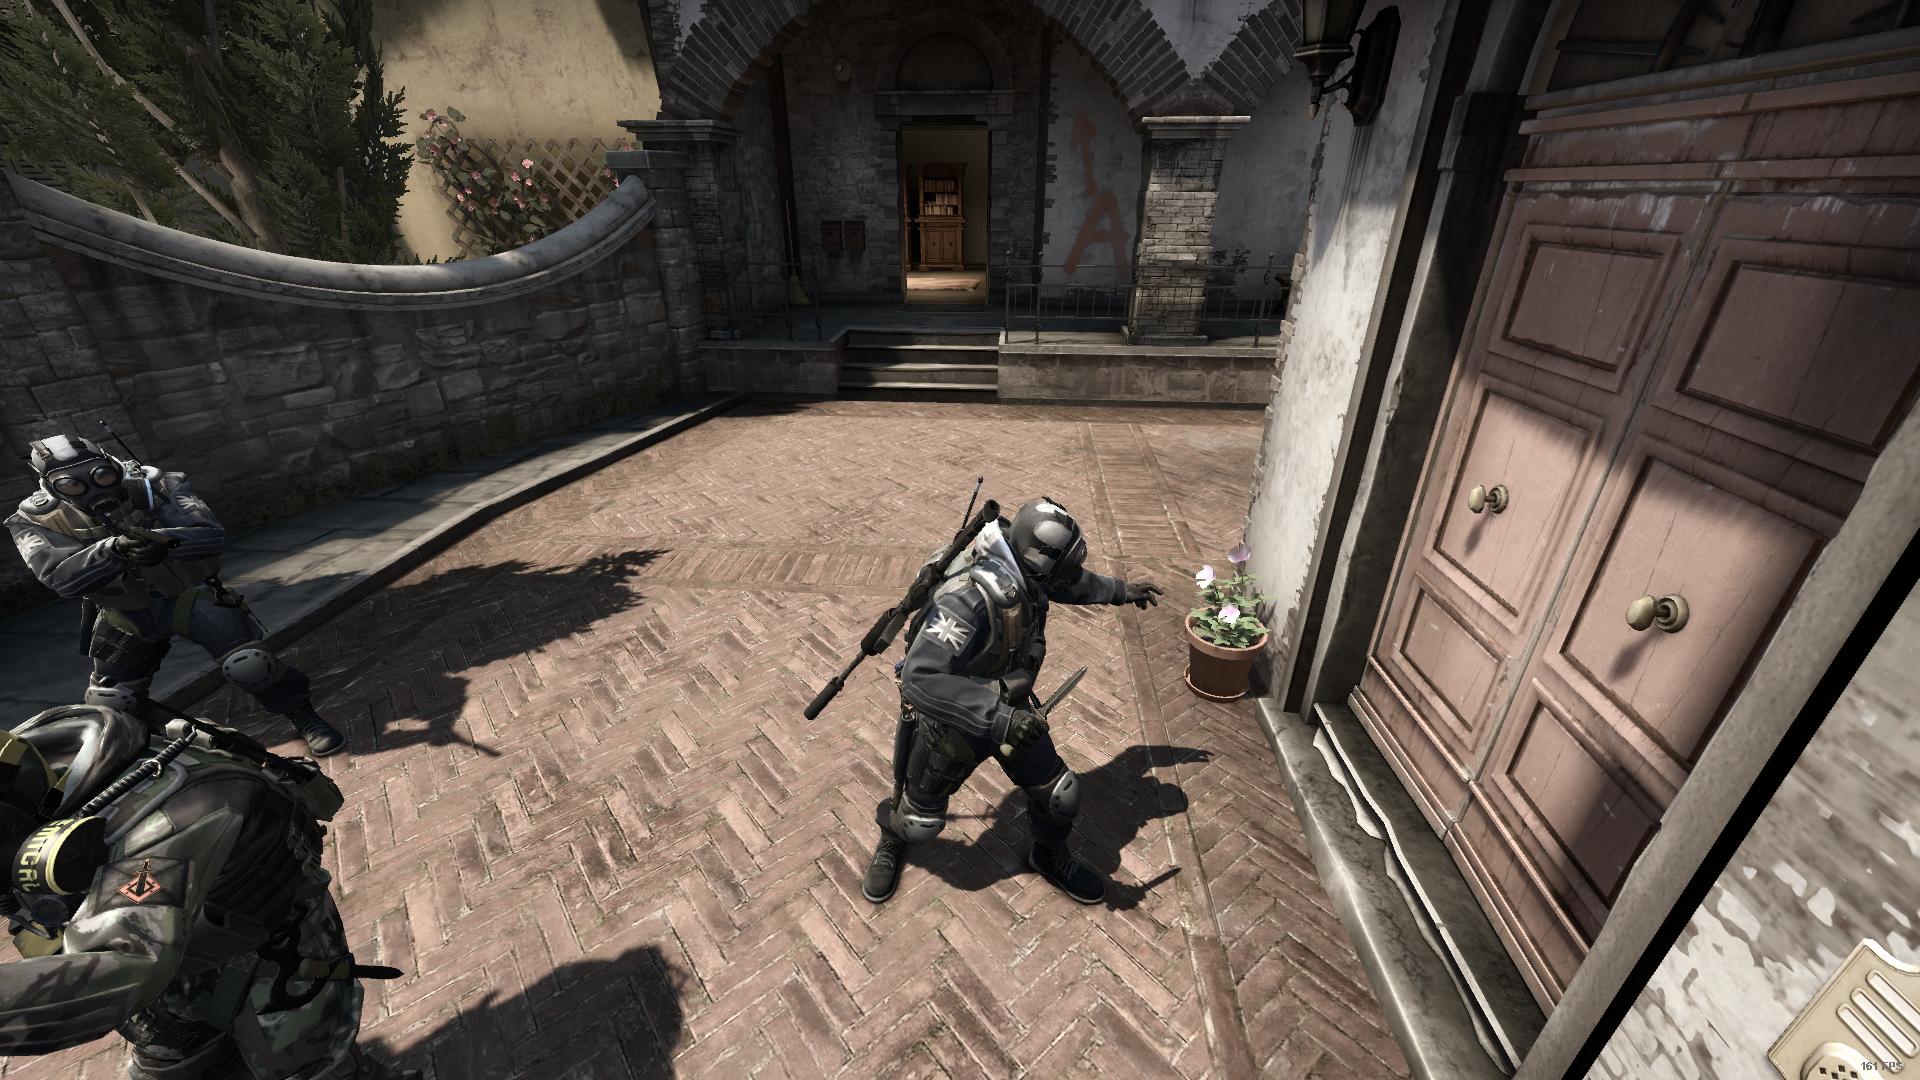ct: (836, 477, 1158, 931), (5, 417, 369, 767)
